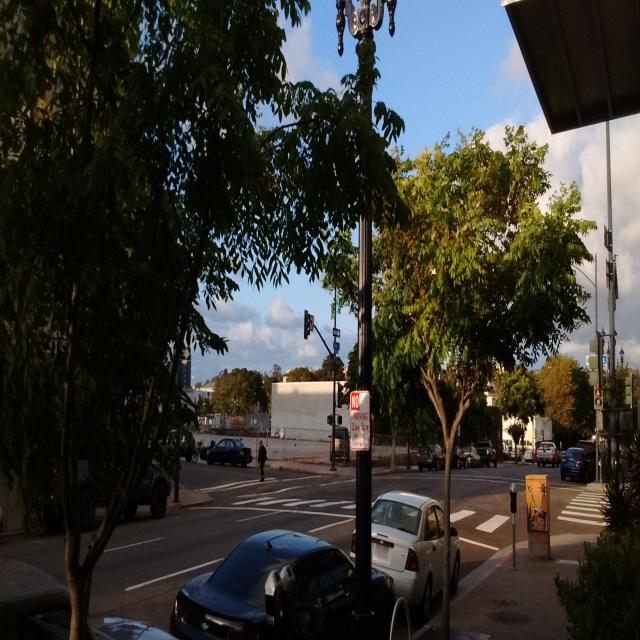Good: (486, 602, 534, 631)
